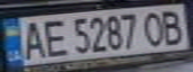2: (87, 14, 109, 53)
5: (66, 15, 90, 55)
7: (118, 11, 142, 48)
8: (103, 11, 127, 51)
A: (15, 19, 48, 61)
B: (157, 7, 190, 46)
E: (39, 17, 69, 57)
O: (139, 8, 172, 47)
